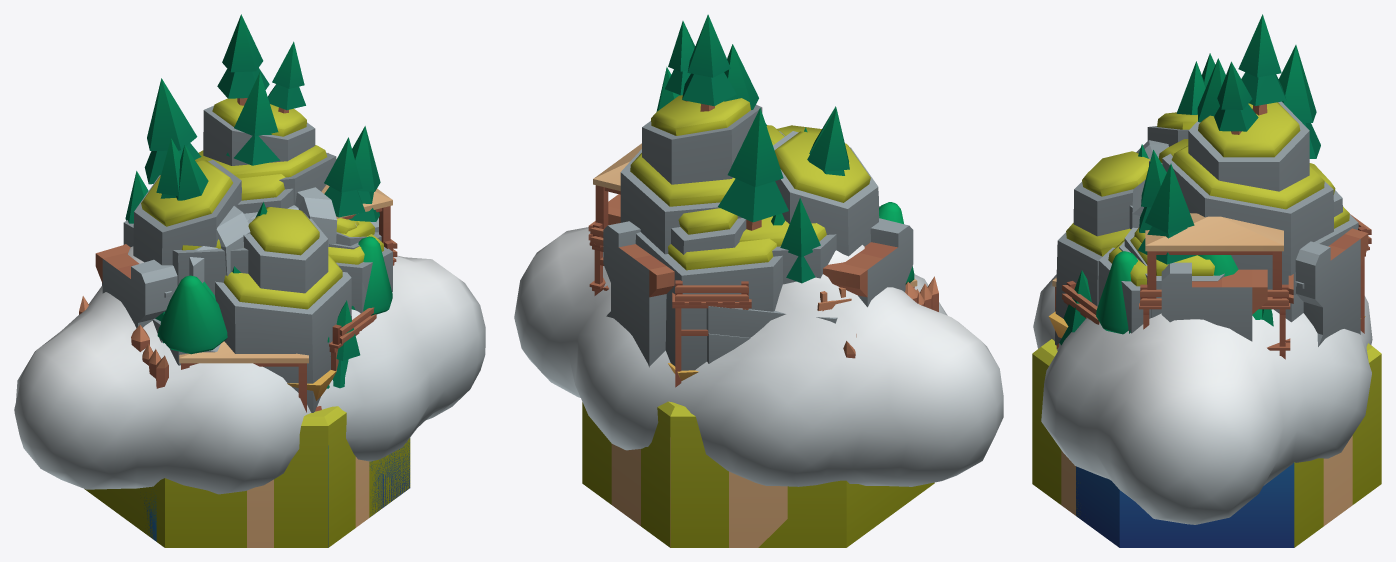
File: env.glb
3 views of the same model, side by side, from view 1: azimuth 30°, elevation 25°; view 2: azimuth 150°, elevation 25°; view 3: azimuth 270°, elevation 25° (orthographic). The views are drawn at different scales.
Visible parts, largest first — view 1: cloud_big, mountain_C_grass, mountain_B_grass_trees, mountain_A_grass_trees, hex_road_G, hex_river_B, trees_B_large, wall_straight_gate, hex_road_D, building_scaffolding, hex_coast_A, wall_corner_A_outside (+10 smaller); view 2: cloud_big, mountain_B_grass_trees, mountain_C_grass, hex_road_C, wall_corner_A_outside, mountain_A_grass_trees, building_scaffolding, hex_coast_A, hex_road_B, hex_road_E, hex_coast_C, wall_straight (+3 smaller); view 3: cloud_big, mountain_B_grass_trees, mountain_C_grass, building_scaffolding, hex_coast_D, mountain_A_grass_trees, wall_corner_A_outside, wall_straight, hex_road_B, hex_road_E, hex_road_D, hex_water (+6 smaller).
Boxes of the visible parts, x1,y1,x2,y2 form: cloud_big: (14, 246, 485, 494); mountain_C_grass: (133, 160, 366, 412); mountain_B_grass_trees: (102, 14, 381, 342); mountain_A_grass_trees: (144, 72, 392, 313); hex_road_G: (247, 416, 327, 547); hex_river_B: (144, 406, 337, 547); trees_B_large: (157, 236, 392, 354); wall_straight_gate: (138, 187, 378, 327); hex_road_D: (327, 406, 369, 547); building_scaffolding: (179, 153, 397, 412); hex_coast_A: (84, 445, 328, 547); wall_corner_A_outside: (95, 244, 169, 328); cloud_big: (514, 227, 1003, 486); mountain_B_grass_trees: (620, 14, 848, 362); mountain_C_grass: (635, 125, 910, 370); hex_road_C: (670, 416, 795, 547); wall_corner_A_outside: (603, 219, 913, 367); mountain_A_grass_trees: (656, 44, 849, 363); building_scaffolding: (588, 143, 917, 387); hex_coast_A: (680, 405, 934, 547); hex_road_B: (611, 402, 671, 547); hex_road_E: (582, 402, 640, 524); hex_coast_C: (668, 402, 846, 547); wall_straight: (608, 194, 904, 275); cloud_big: (1033, 274, 1372, 524); mountain_B_grass_trees: (1119, 14, 1333, 322); mountain_C_grass: (1055, 112, 1358, 345); building_scaffolding: (1052, 213, 1371, 359); hex_coast_D: (1079, 462, 1294, 547); mountain_A_grass_trees: (1099, 45, 1320, 321); wall_corner_A_outside: (1295, 228, 1368, 346); wall_straight: (1161, 262, 1267, 341); hex_road_B: (1323, 349, 1381, 525); hex_road_E: (1294, 437, 1352, 547); hex_road_D: (1032, 349, 1075, 515); hex_water: (1076, 466, 1119, 547).
Size of the model in its own units: 3.61 by 3.5 by 2.31.
Materials: 1 (1 with a texture image).
